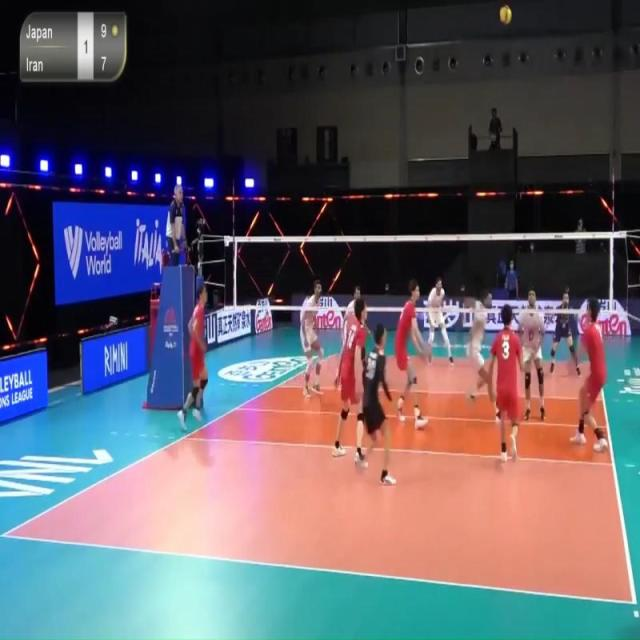volleyball: (500, 4, 512, 24)
